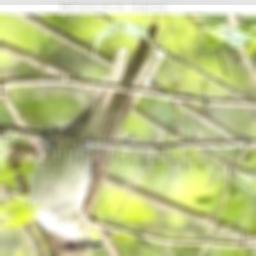Cuckoo: (30, 25, 166, 256)
